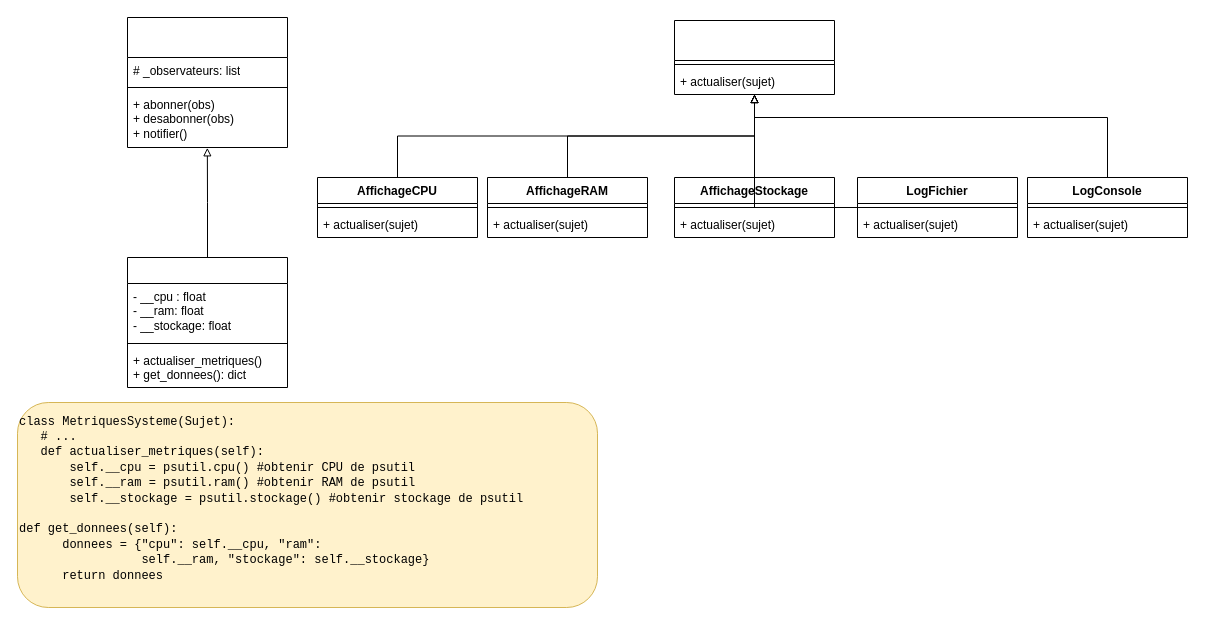
The diagram is 1205 pixels wide and 625 high, and some of its shapes have lost their labels. The box of each missing label's shape, as (x1, y1, x2, y2) in pixels:
"Abstraite" Observateur: (674, 20, 834, 94)
"Abstraite" Sujet: (126, 16, 288, 148)
MetriquesSysteme: (126, 256, 288, 388)
